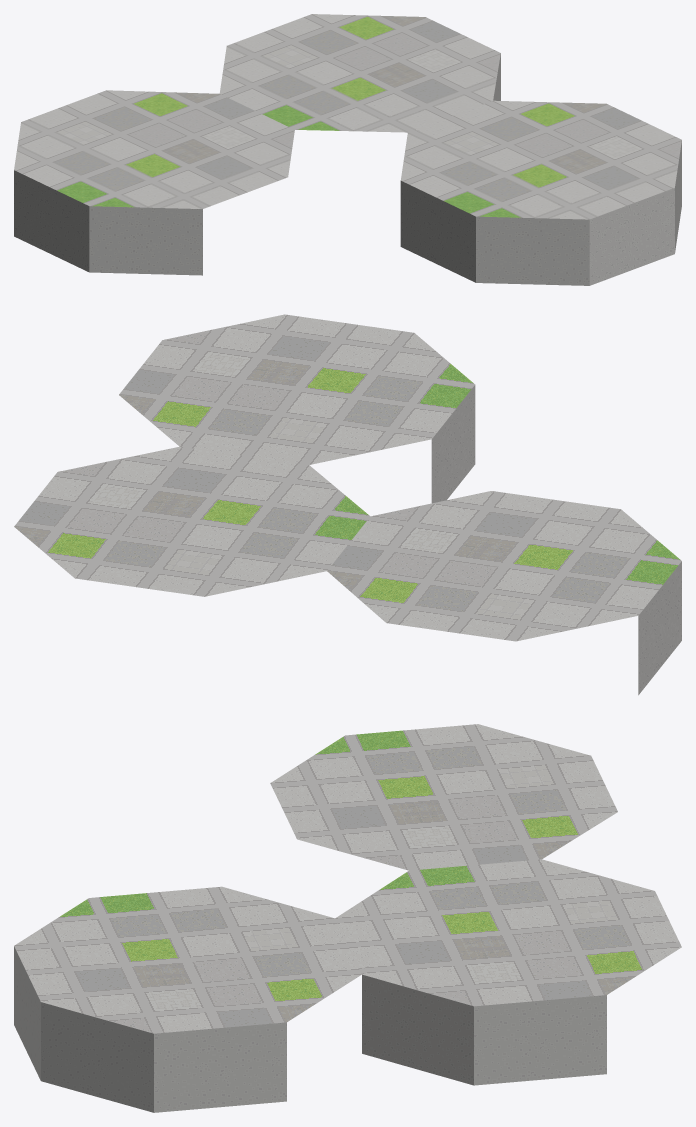
File: kd_stage_1363c5_5_2.glb
3 views of the same model, one above another, from view 1: azimuth 30°, elevation 25°; view 2: azimuth 150°, elevation 25°; view 3: azimuth 270°, elevation 25° (orthographic). The views are drawn at different scales.
Parts seen in each view (by area): view 1: kd_stage_1363c5_5_2; view 2: kd_stage_1363c5_5_2; view 3: kd_stage_1363c5_5_2.
Boxes of the visible parts, <box> form: kd_stage_1363c5_5_2: <box>14,14,681,285</box>; kd_stage_1363c5_5_2: <box>14,314,681,695</box>; kd_stage_1363c5_5_2: <box>14,724,681,1112</box>.
Size of the model in its own units: 308 by 36.74 by 281.
Materials: 1 (1 with a texture image).
